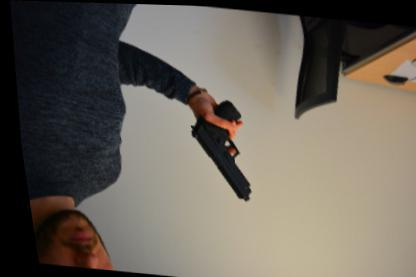pistol: (177, 93, 253, 200)
